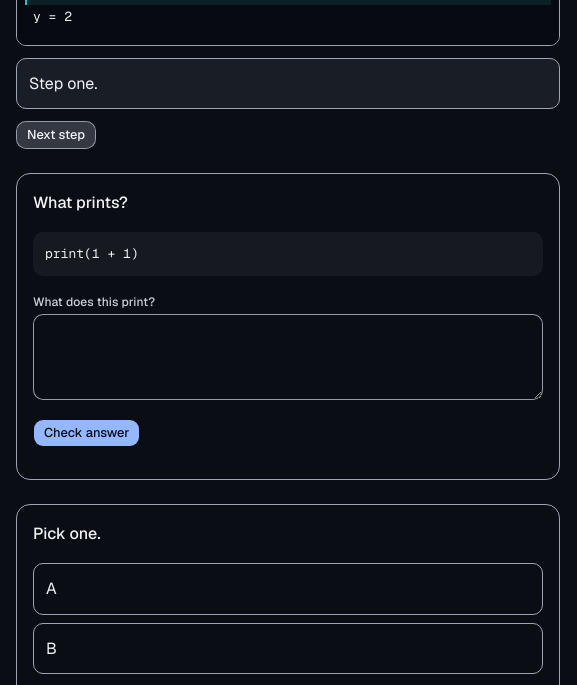
Test case: LessonView › A11Y-15: the hint announces through an aria-live region the focused verdict does not sit inside, in DOM order after it
(page scrolled)
Type "wrong" into the text box at (288, 357), box [33, 314, 543, 400]
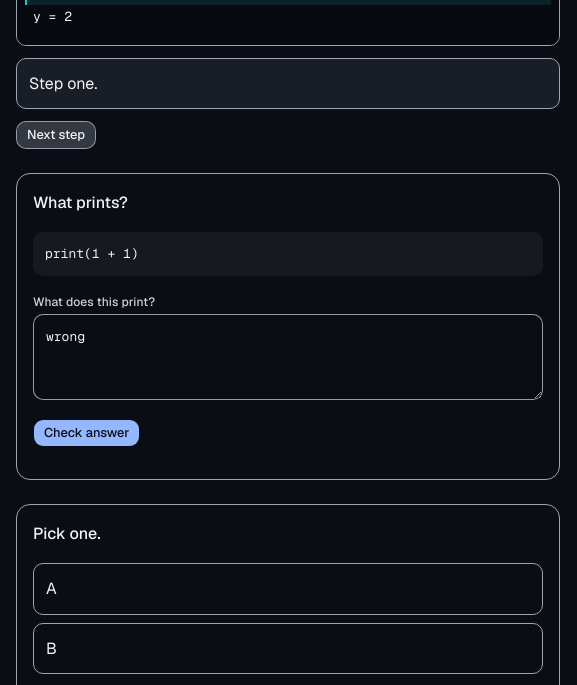
Click the button "Check answer" at (87, 433), box [33, 419, 140, 447]
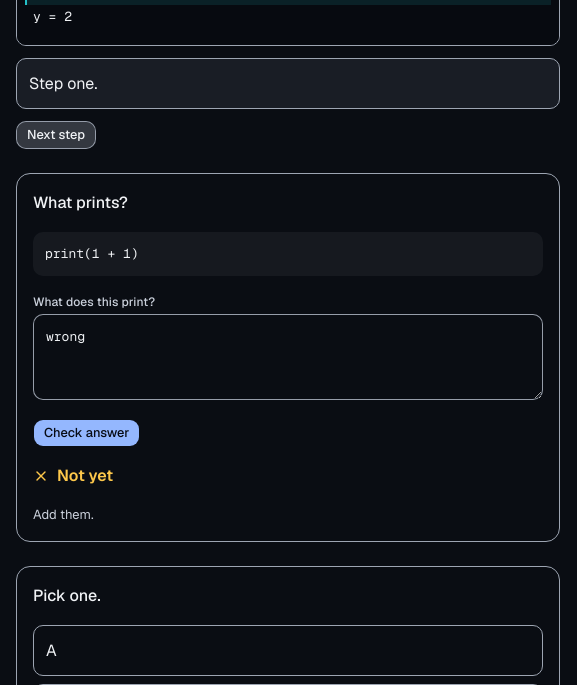
expect the text "Add them." is shown: met, box [32, 506, 101, 527]
